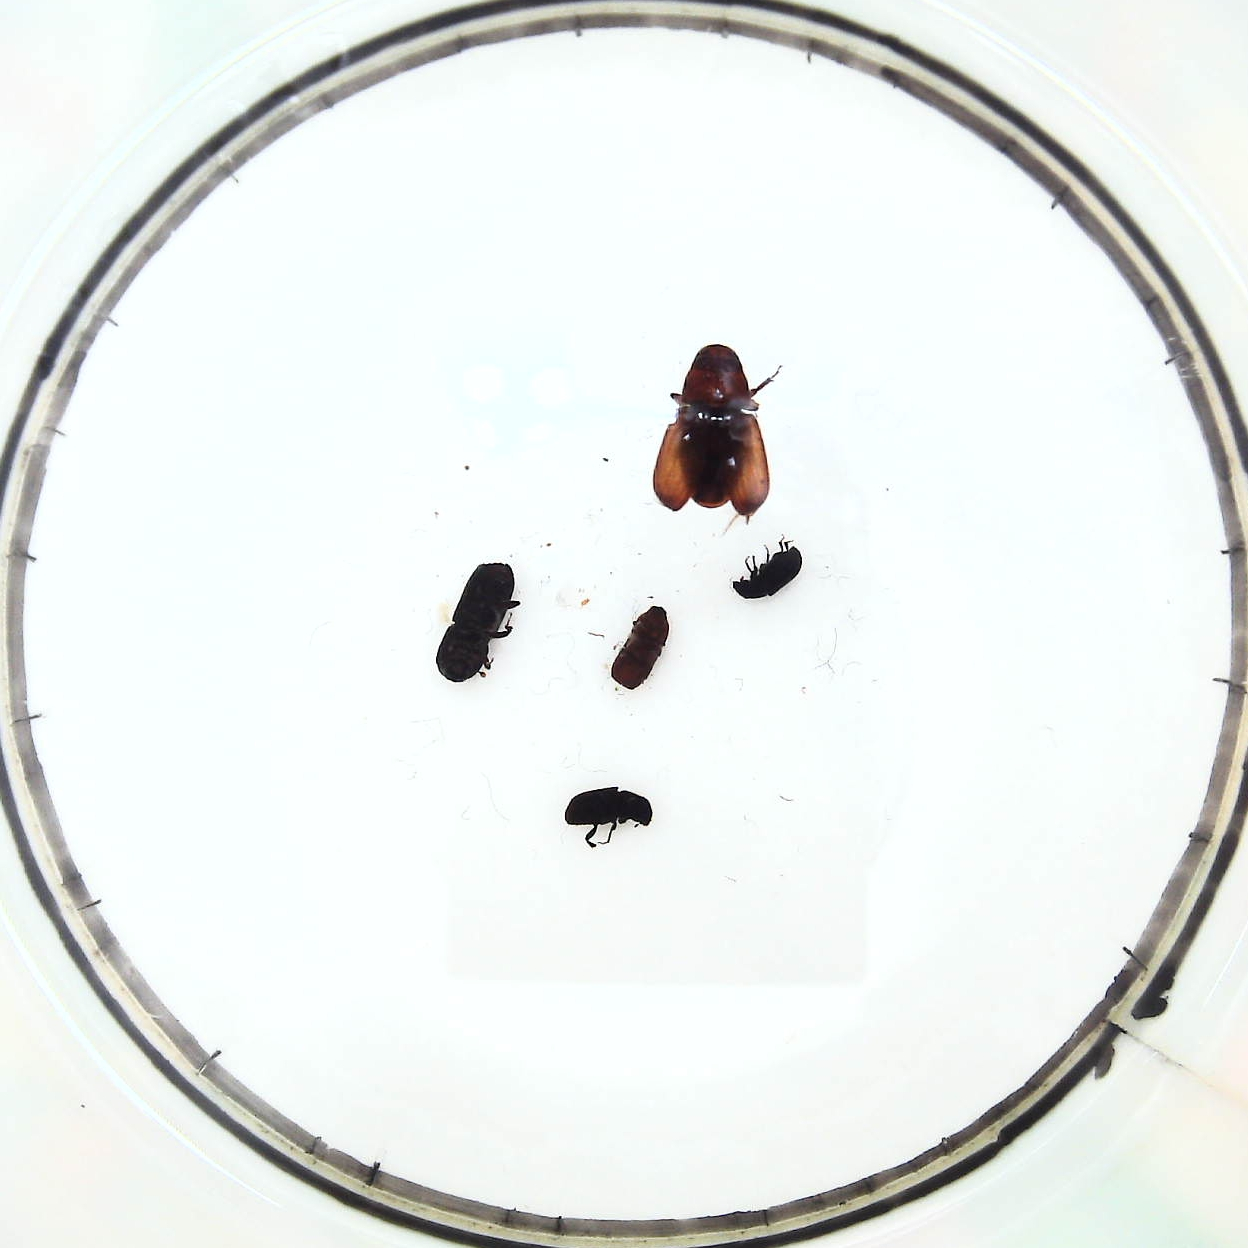Boerner: (432, 561, 518, 683)
Leconte: (651, 341, 769, 517)
Linnaeus: (614, 603, 669, 689)
armandi: (567, 783, 651, 837)
coleoptera: (731, 543, 803, 597)
